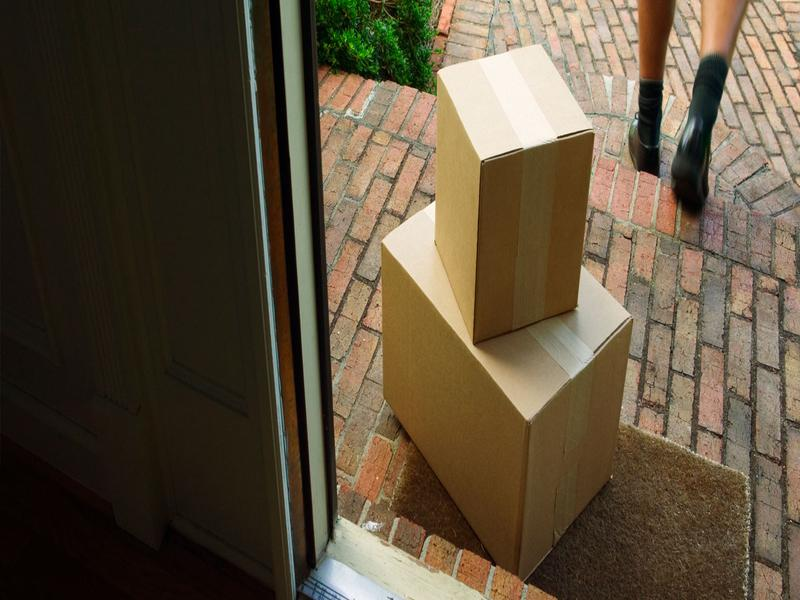package: (371, 233, 640, 583), (419, 33, 603, 353)
